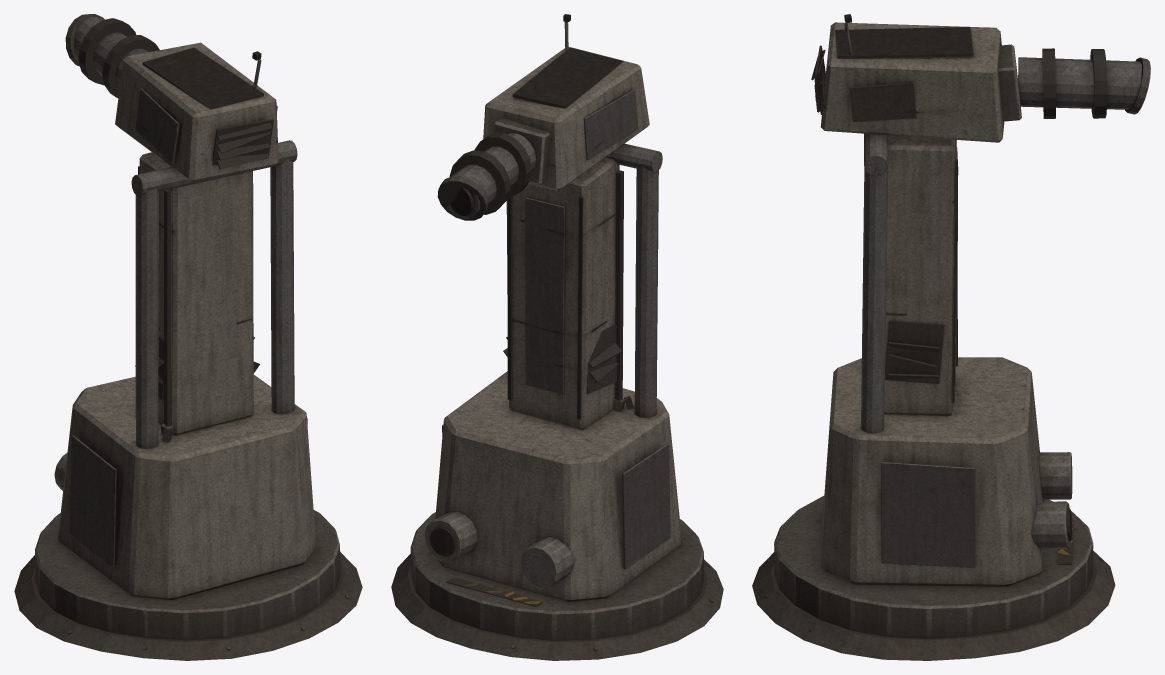
Rendered from ord_beamer_wreck.fbx.
3 views of the same model, side by side, from view 1: azimuth 30°, elevation 25°; view 2: azimuth 150°, elevation 25°; view 3: azimuth 270°, elevation 25° (orthographic). The views are drawn at different scales.
Parts seen in each view (by area): view 1: base_bar, turret_bar, barrel_bar; view 2: base_bar, turret_bar, barrel_bar; view 3: base_bar, turret_bar, barrel_bar.
Boxes of the visible parts, x1,y1,x2,y2 form: base_bar: (14, 140, 362, 660); turret_bar: (115, 42, 278, 181); barrel_bar: (65, 14, 172, 97); base_bar: (391, 143, 723, 660); turret_bar: (483, 14, 649, 190); barrel_bar: (437, 117, 549, 220); base_bar: (752, 133, 1115, 660); turret_bar: (811, 14, 1004, 142); barrel_bar: (998, 44, 1150, 121).
Bounding box in the file's own units: 1091 × 2124 × 1188.
2 materials, 2 textured.
